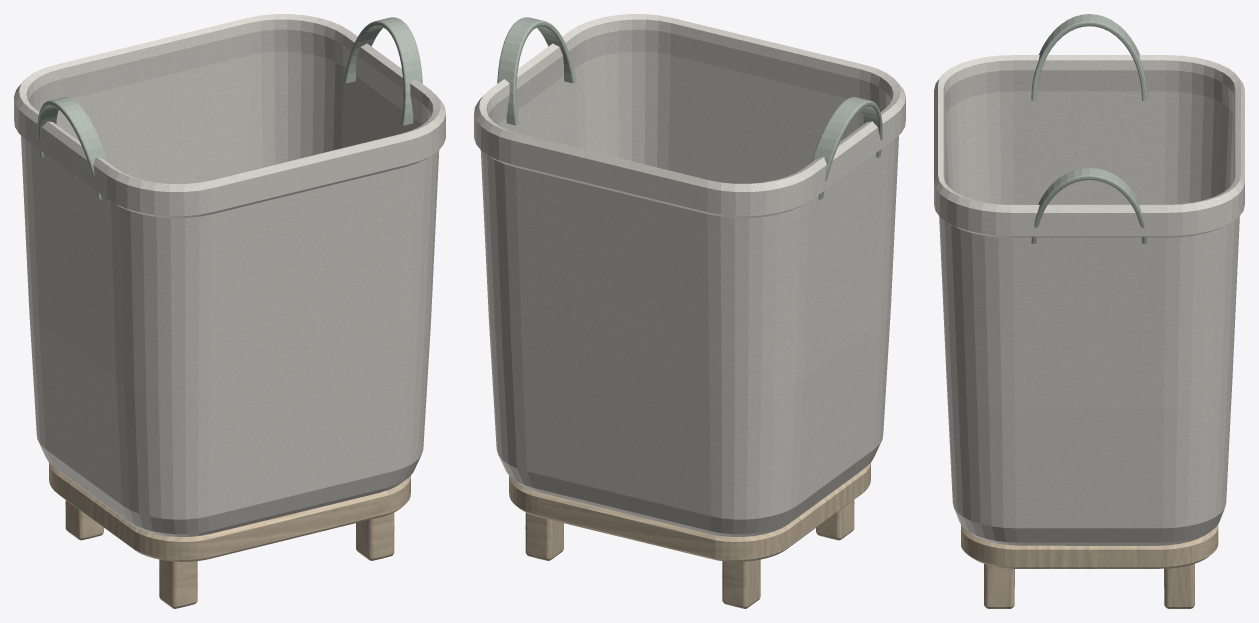
Rendered from laundry_basket.glb.
The picture shows the model from 3 angles, left to right: view 1: azimuth 30°, elevation 25°; view 2: azimuth 150°, elevation 25°; view 3: azimuth 270°, elevation 25°; orthographic projection. The views are drawn at different scales.
Visible parts, largest first — view 1: 翻边帆布篮身_5, 圆角原木底座_0, 鼠尾草绿织带提手_7, 鼠尾草绿织带提手_6, 原木短脚_2, 原木短脚_4, 原木短脚_1; view 2: 翻边帆布篮身_5, 圆角原木底座_0, 鼠尾草绿织带提手_7, 鼠尾草绿织带提手_6, 原木短脚_1, 原木短脚_3, 原木短脚_2; view 3: 翻边帆布篮身_5, 圆角原木底座_0, 鼠尾草绿织带提手_6, 鼠尾草绿织带提手_7, 原木短脚_3, 原木短脚_4.
Boxes of the visible parts, x1=… form: 翻边帆布篮身_5: x1=14, y1=14, x2=445, y2=536; 圆角原木底座_0: x1=49, y1=463, x2=410, y2=561; 鼠尾草绿织带提手_7: x1=343, y1=17, x2=422, y2=125; 鼠尾草绿织带提手_6: x1=37, y1=97, x2=108, y2=199; 原木短脚_2: x1=159, y1=559, x2=197, y2=608; 原木短脚_4: x1=356, y1=512, x2=394, y2=560; 原木短脚_1: x1=65, y1=500, x2=103, y2=540; 翻边帆布篮身_5: x1=474, y1=14, x2=905, y2=536; 圆角原木底座_0: x1=509, y1=463, x2=870, y2=561; 鼠尾草绿织带提手_7: x1=497, y1=17, x2=576, y2=125; 鼠尾草绿织带提手_6: x1=811, y1=97, x2=882, y2=199; 原木短脚_1: x1=722, y1=559, x2=760, y2=608; 原木短脚_3: x1=525, y1=512, x2=563, y2=560; 原木短脚_2: x1=816, y1=500, x2=854, y2=540; 翻边帆布篮身_5: x1=934, y1=55, x2=1244, y2=545; 圆角原木底座_0: x1=961, y1=524, x2=1218, y2=568; 鼠尾草绿织带提手_6: x1=1031, y1=14, x2=1147, y2=100; 鼠尾草绿织带提手_7: x1=1031, y1=167, x2=1147, y2=243; 原木短脚_3: x1=1164, y1=564, x2=1194, y2=608; 原木短脚_4: x1=984, y1=564, x2=1014, y2=608.
Bounding box in the file's own units: 0.42 × 0.56 × 0.34.
Materials: 3 (3 with a texture image).
